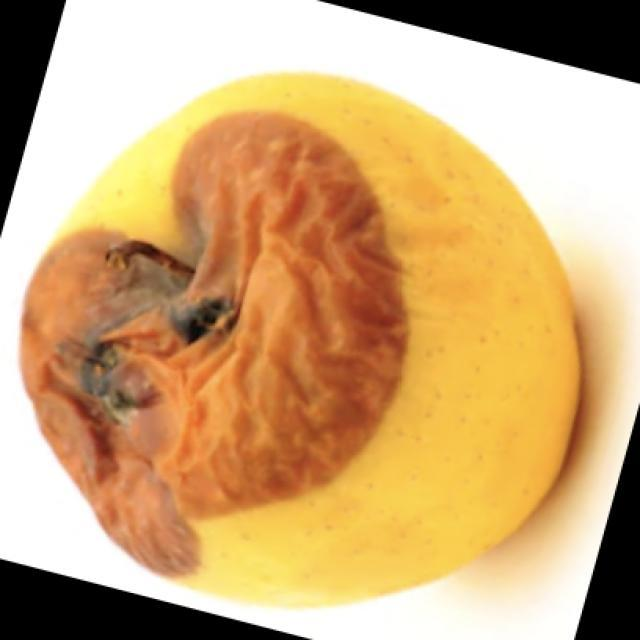Rotten: (46, 63, 613, 640)
